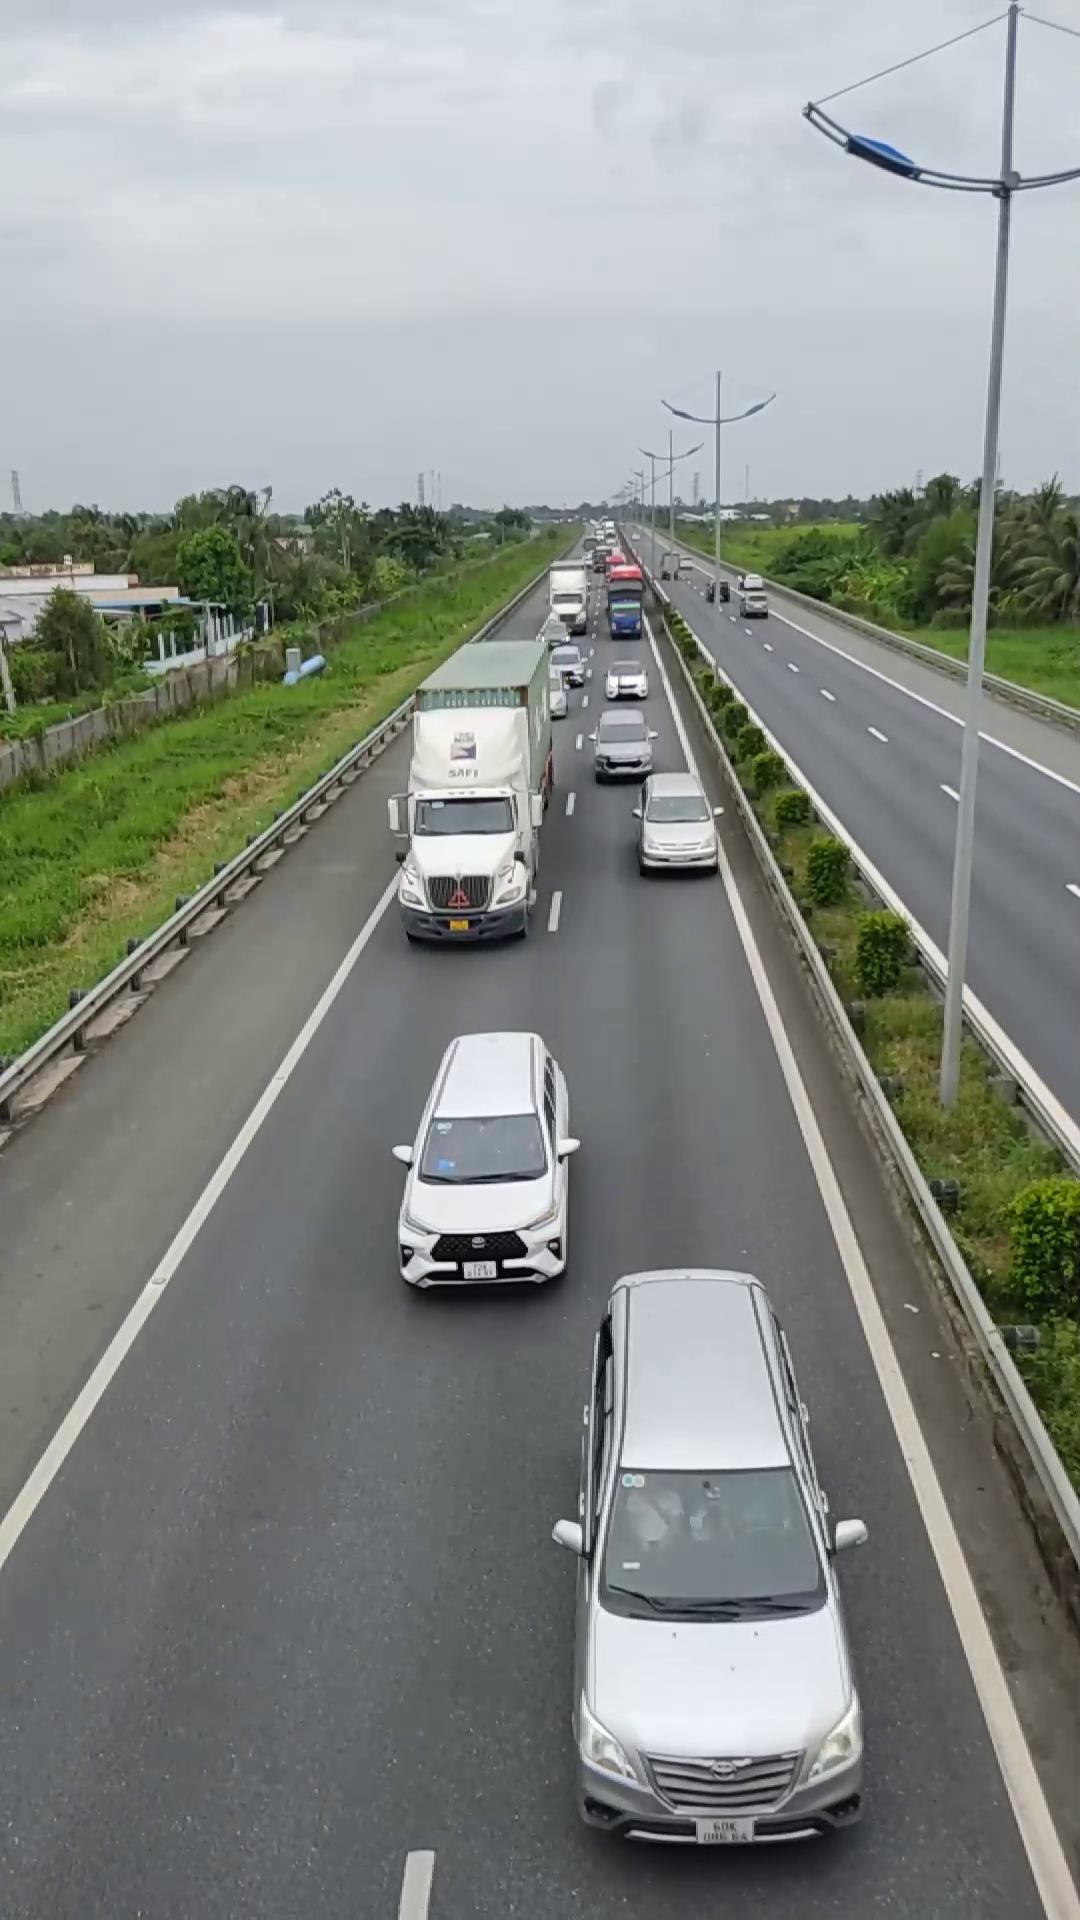car: (558, 1266, 866, 1847), (389, 1027, 579, 1295), (632, 770, 721, 876), (587, 712, 654, 781)
container: (393, 636, 556, 945)
